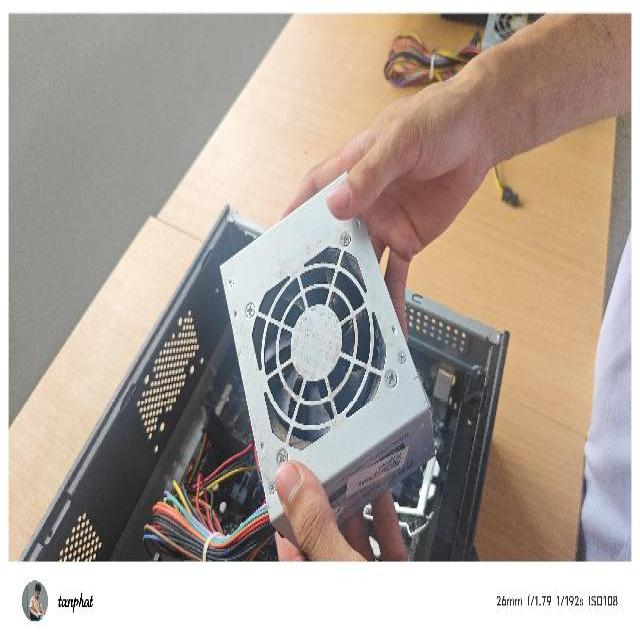PSU: (218, 171, 439, 549)
